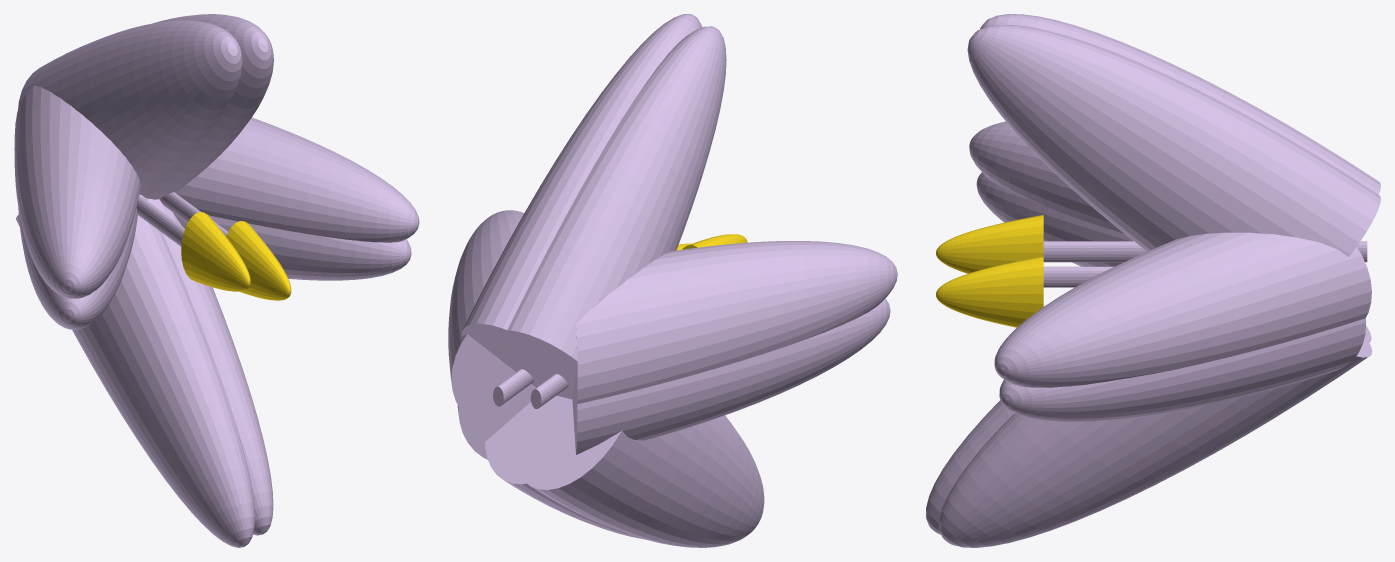
File: tinker.obj
The picture shows the model from 3 angles, left to right: view 1: azimuth 30°, elevation 25°; view 2: azimuth 150°, elevation 25°; view 3: azimuth 270°, elevation 25°; orthographic projection. The views are drawn at different scales.
Parts seen in each view (by area): view 1: group_0_13877221, group_0_16768282; view 2: group_0_13877221, group_0_16768282; view 3: group_0_13877221, group_0_16768282.
Part boxes in pixels (x1,y1,x2,y2): group_0_13877221: (14,14,419,547); group_0_16768282: (181,212,291,300); group_0_13877221: (448,14,897,547); group_0_16768282: (676,234,747,250); group_0_13877221: (926,14,1380,547); group_0_16768282: (936,215,1043,327).
Size of the model in its own units: 46.77 by 59.63 by 46.39.
